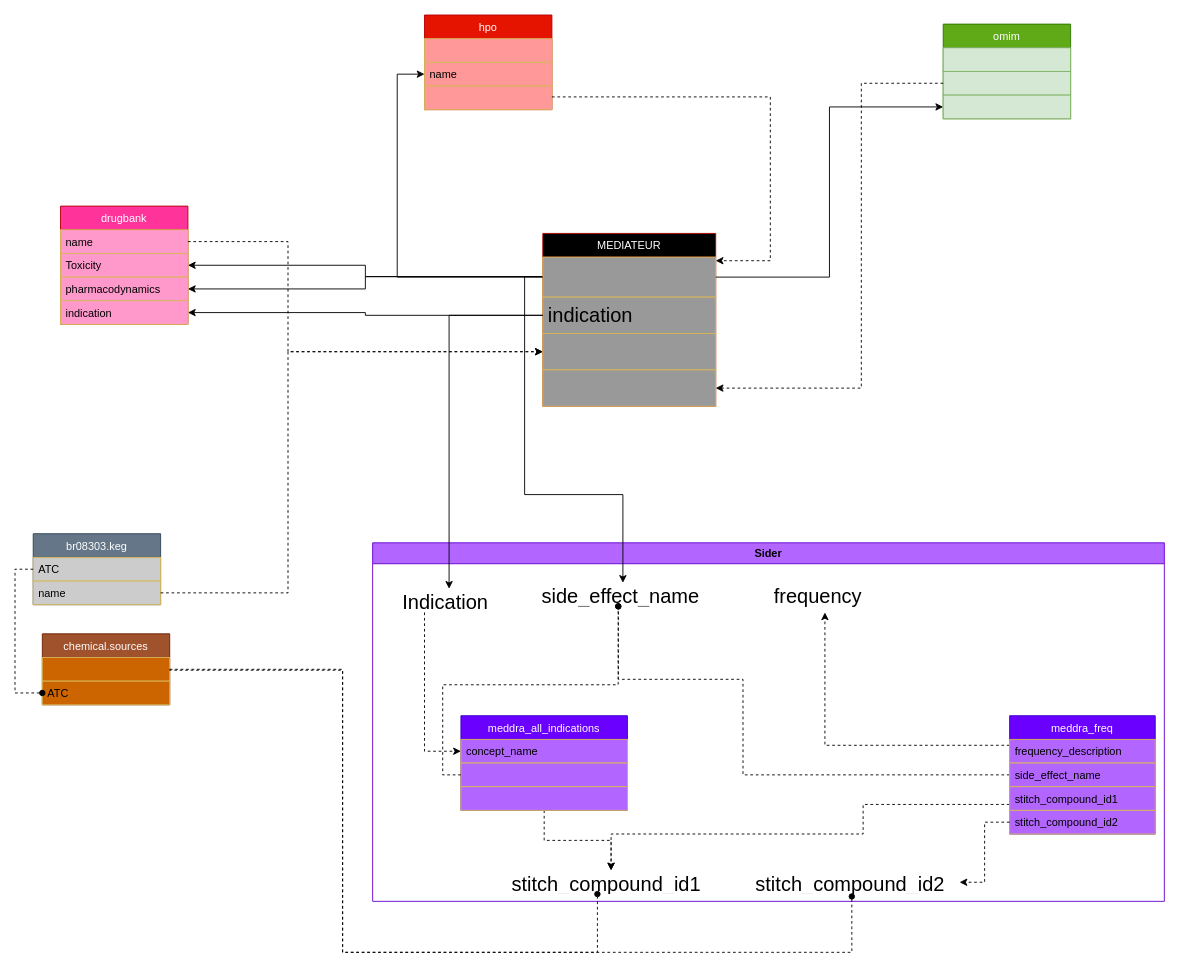
This 1179x967 diagram has some shape labels left out. Here are the shapes that lost their labels. From the top down, the centre of each, then its label:
At point 488,50: "synonym".
At point 1006,59: "*FIELD* NO: id".
At point 488,97: "is_a".
At point 1006,83: "*FIELD* TI: name".
At point 1006,106: "*FIELD* CS: symptom".
At point 629,276: "side_effect".
At point 629,351: "drug_name".
At point 629,387: "desease_name".
At point 105,669: "chemical".
At point 543,774: "meddra_concept_name".
At point 543,798: "stitch_compound_id".
